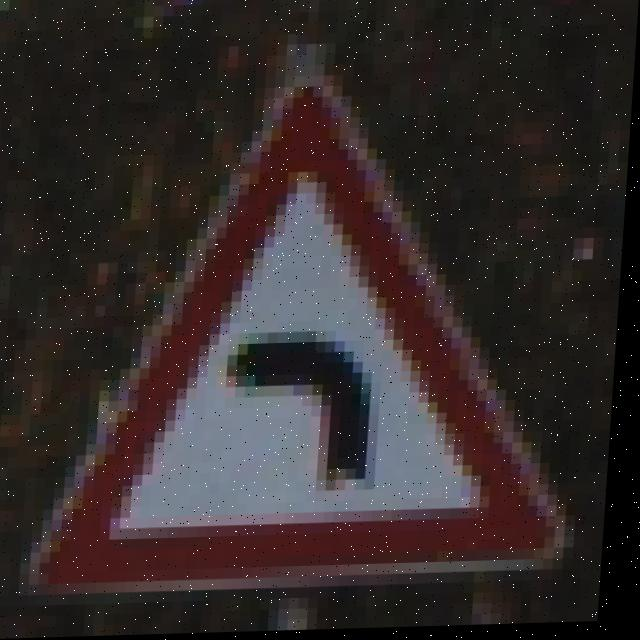left_turn: (44, 134, 599, 594)
